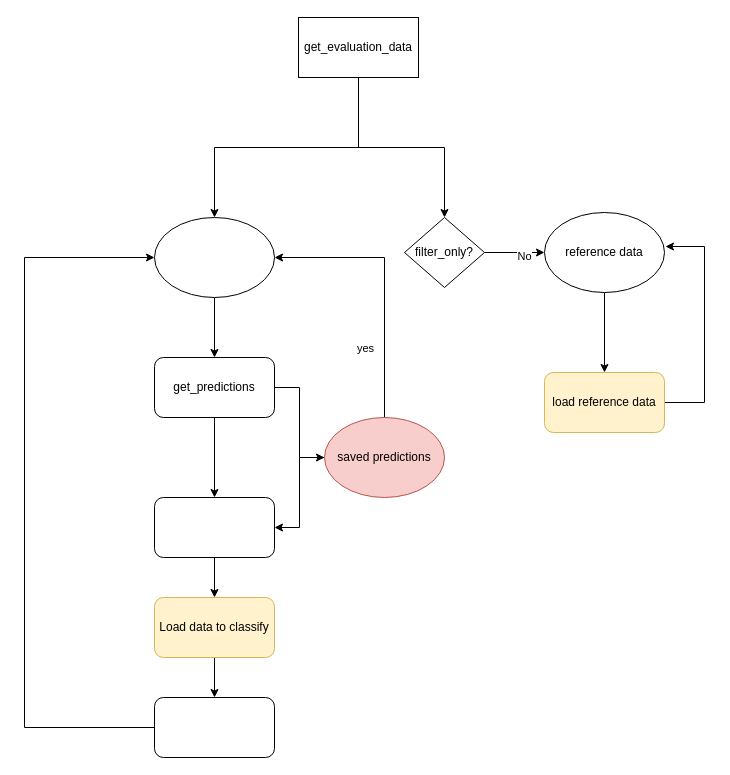
This 730x775 diagram has some shape labels left out. Each missing label, with the centre of its shape:
"classify database" belongs at (214,527).
"predict" belongs at (214,727).
"predictions" belongs at (214,257).
